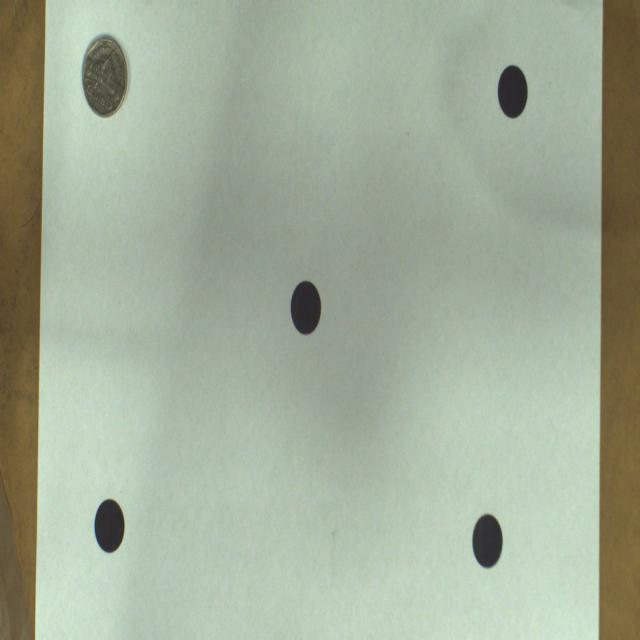space: (290, 280, 321, 336), (472, 513, 502, 569), (498, 64, 528, 118), (95, 500, 125, 553)
tail5bath: (82, 36, 128, 118)
